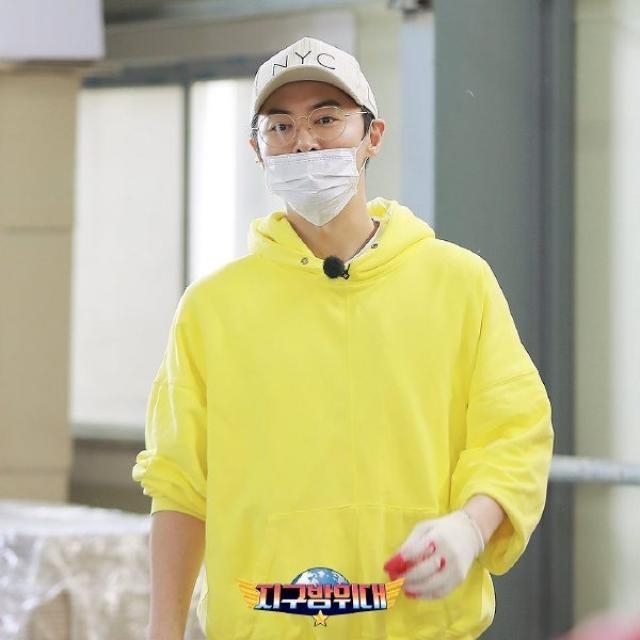hairnet: (254, 95, 365, 220)
